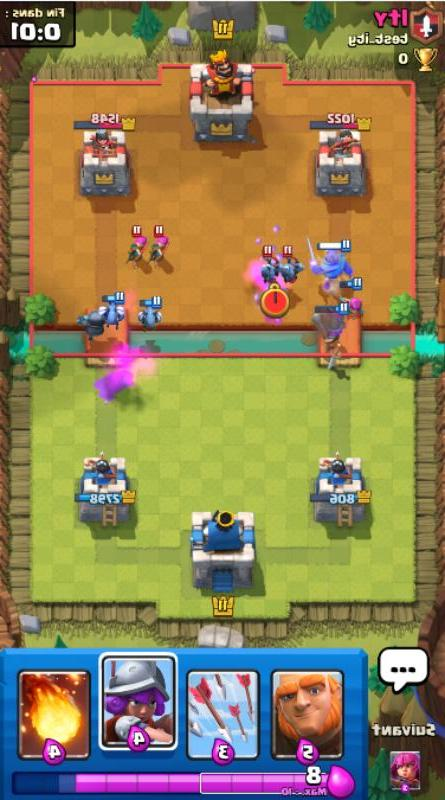archere: (337, 277, 367, 319), (146, 225, 171, 268), (124, 225, 150, 266)
chevalier: (306, 238, 355, 294)
gargouille: (98, 290, 127, 331), (278, 244, 304, 284), (137, 295, 165, 332), (257, 245, 282, 286)
mini_PEKKA: (75, 308, 107, 343)
mousquetaire: (310, 301, 350, 353)
